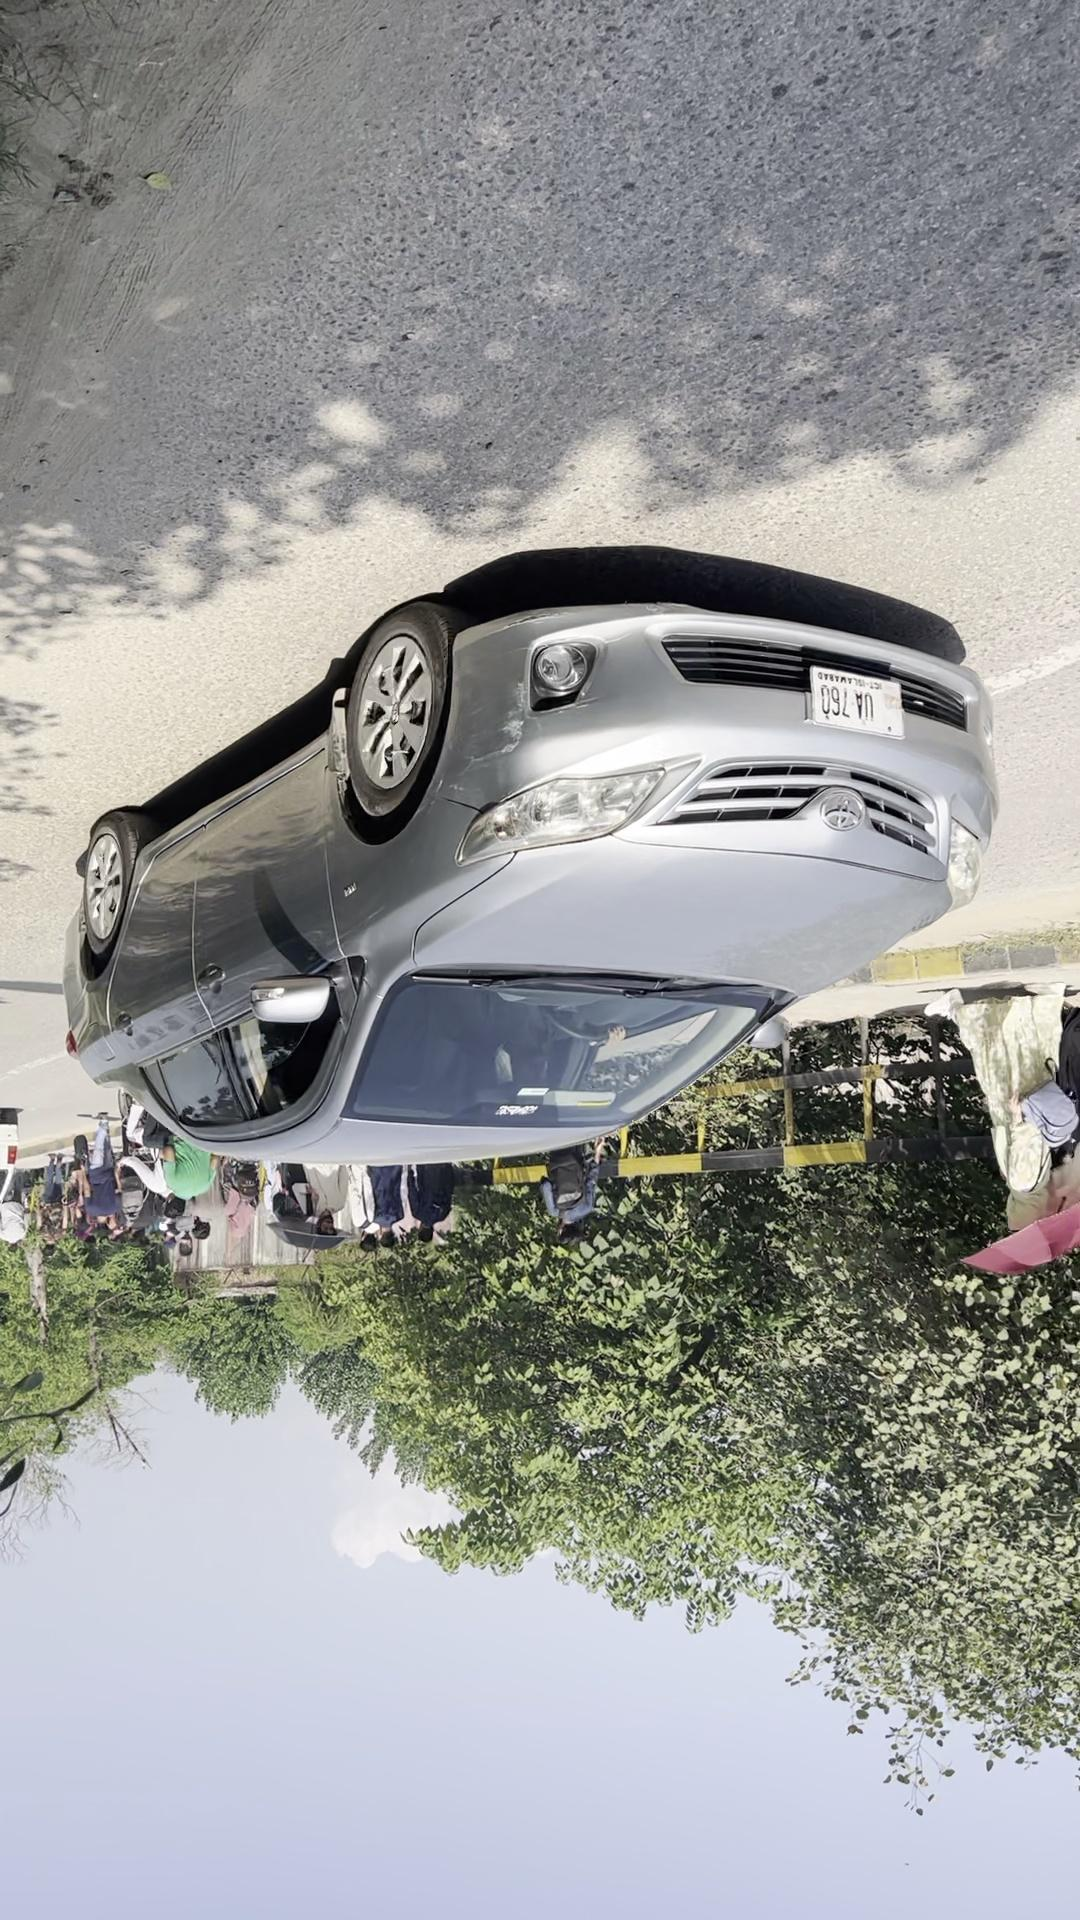windshield: (306, 781, 746, 960)
